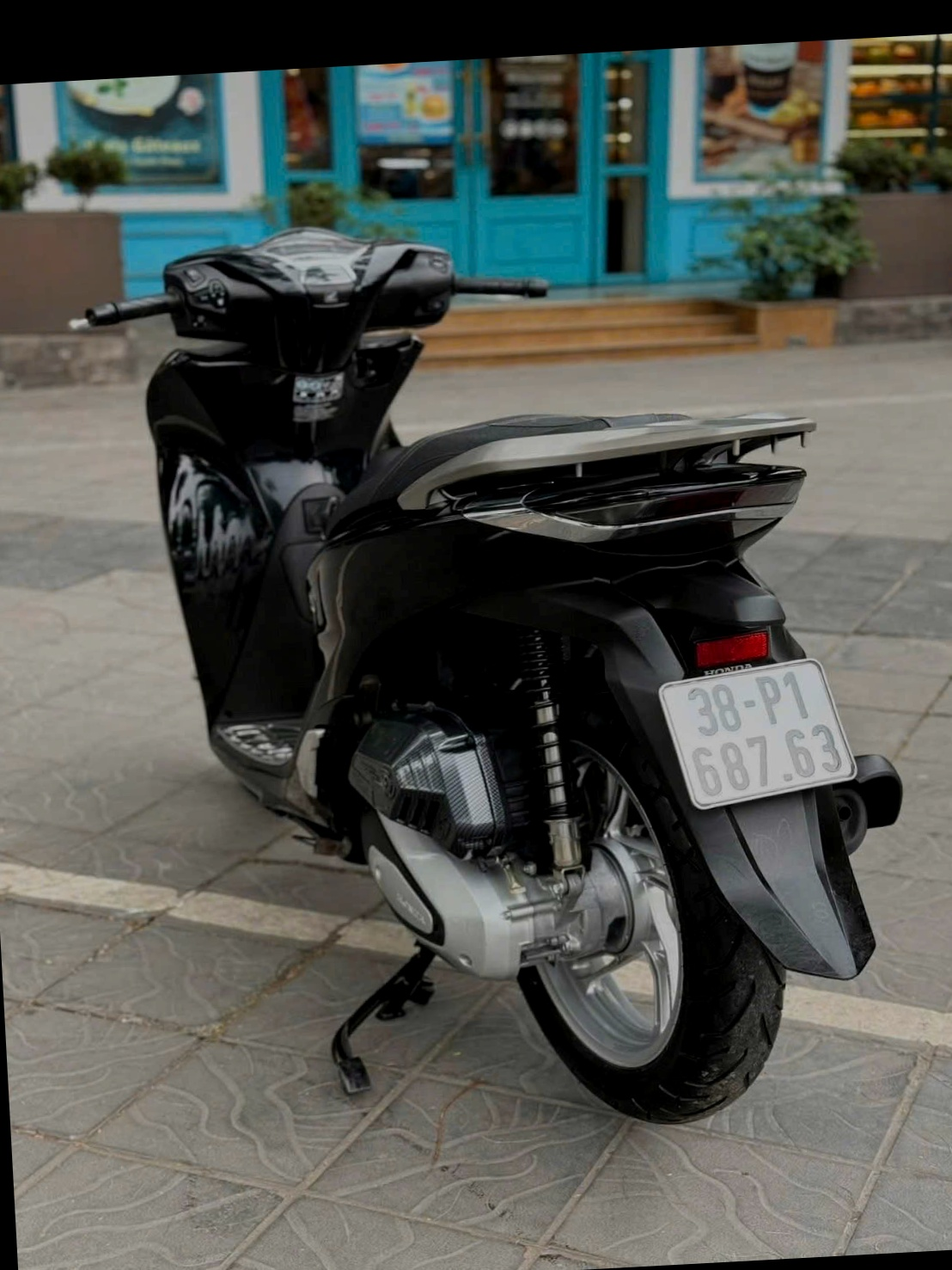Bien-so: (625, 653, 839, 818)
